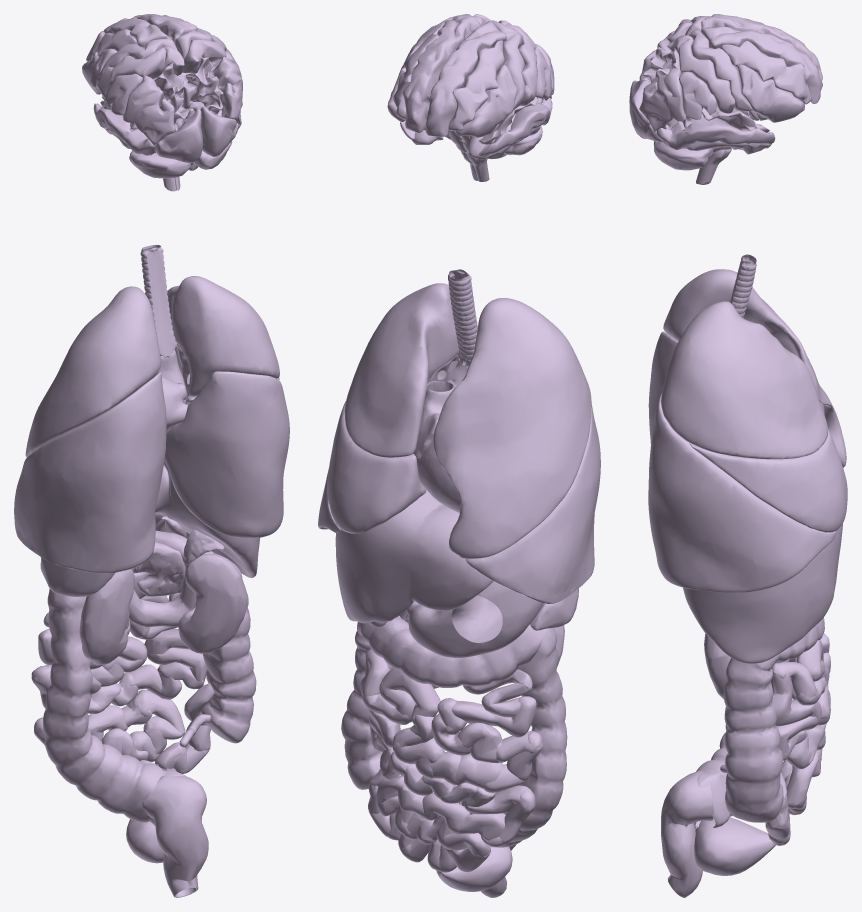
Rendered from comparison_z_organs.glb.
3 views of the same model, side by side, from view 1: azimuth 30°, elevation 25°; view 2: azimuth 150°, elevation 25°; view 3: azimuth 270°, elevation 25° (orthographic). The views are drawn at different scales.
Visible parts, largest first — view 1: z_left_lung, z_right_lung, z_large_intestine, z_brain, z_small_intestine, z_right_kidney, z_left_kidney, z_liver, z_trachea, z_pancreas, z_spleen, z_heart (+2 smaller); view 2: z_left_lung, z_small_intestine, z_right_lung, z_brain, z_large_intestine, z_liver, z_stomach, z_heart, z_trachea, z_bladder, z_spleen; view 3: z_right_lung, z_brain, z_large_intestine, z_liver, z_small_intestine, z_left_lung, z_bladder, z_trachea, z_right_kidney.
Boxes of the visible parts, x1,y1,x2,y2 form: z_left_lung: [14, 286, 166, 573]; z_right_lung: [164, 276, 289, 537]; z_large_intestine: [43, 551, 256, 897]; z_brain: [82, 14, 242, 191]; z_small_intestine: [31, 530, 214, 773]; z_right_kidney: [178, 553, 247, 653]; z_left_kidney: [79, 569, 134, 664]; z_liver: [155, 461, 259, 577]; z_trachea: [140, 245, 178, 357]; z_pancreas: [131, 542, 185, 596]; z_spleen: [40, 557, 115, 596]; z_heart: [157, 350, 188, 433]; z_left_lung: [433, 298, 600, 603]; z_small_intestine: [360, 610, 542, 872]; z_right_lung: [318, 283, 468, 533]; z_brain: [387, 14, 554, 181]; z_large_intestine: [341, 616, 567, 897]; z_liver: [335, 490, 493, 623]; z_stomach: [406, 581, 543, 657]; z_heart: [413, 381, 460, 512]; z_trachea: [448, 269, 477, 366]; z_bladder: [436, 847, 512, 891]; z_spleen: [530, 588, 578, 630]; z_right_lung: [648, 301, 847, 592]; z_brain: [629, 14, 822, 184]; z_large_intestine: [661, 617, 824, 897]; z_liver: [683, 523, 842, 663]; z_small_intestine: [765, 633, 830, 845]; z_left_lung: [648, 269, 846, 467]; z_bladder: [694, 817, 775, 875]; z_trachea: [730, 254, 756, 318]; z_right_kidney: [704, 633, 730, 699].
Size of the model in its own units: 26.1 by 89.78 by 20.33.
